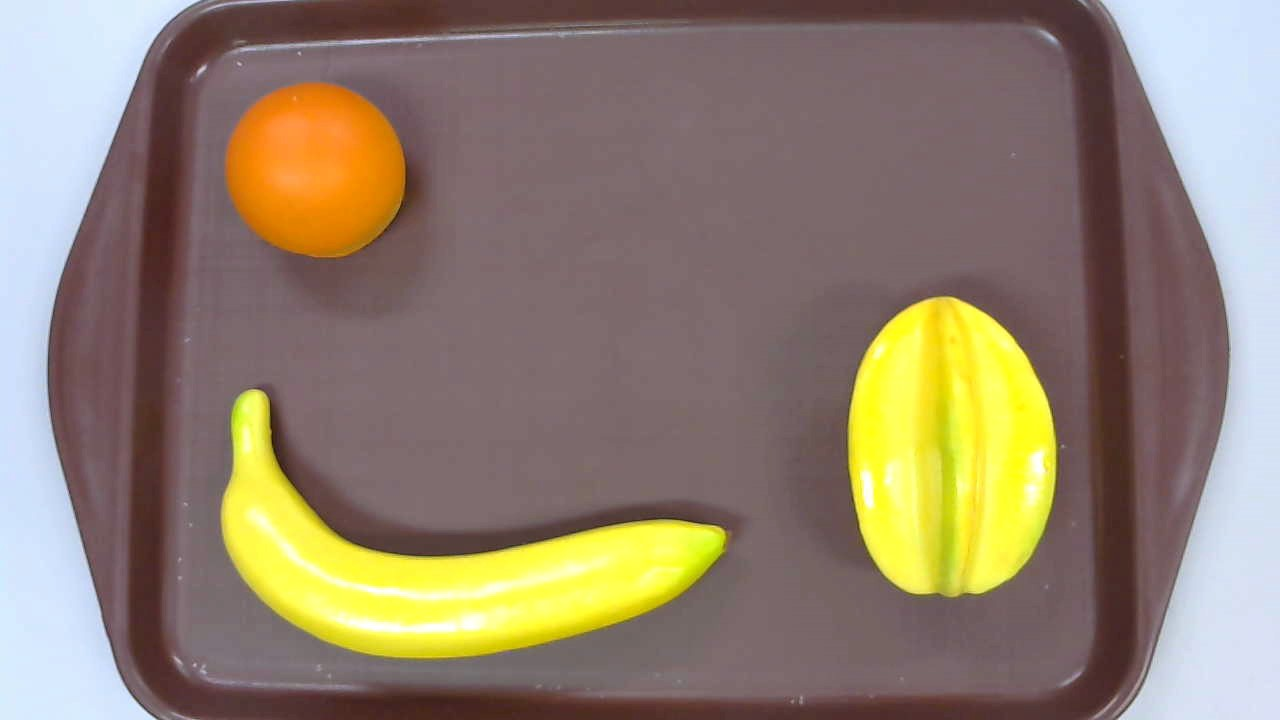banana: (220, 387, 733, 660)
bun: (224, 82, 405, 259)
star fruit: (848, 294, 1056, 599)
